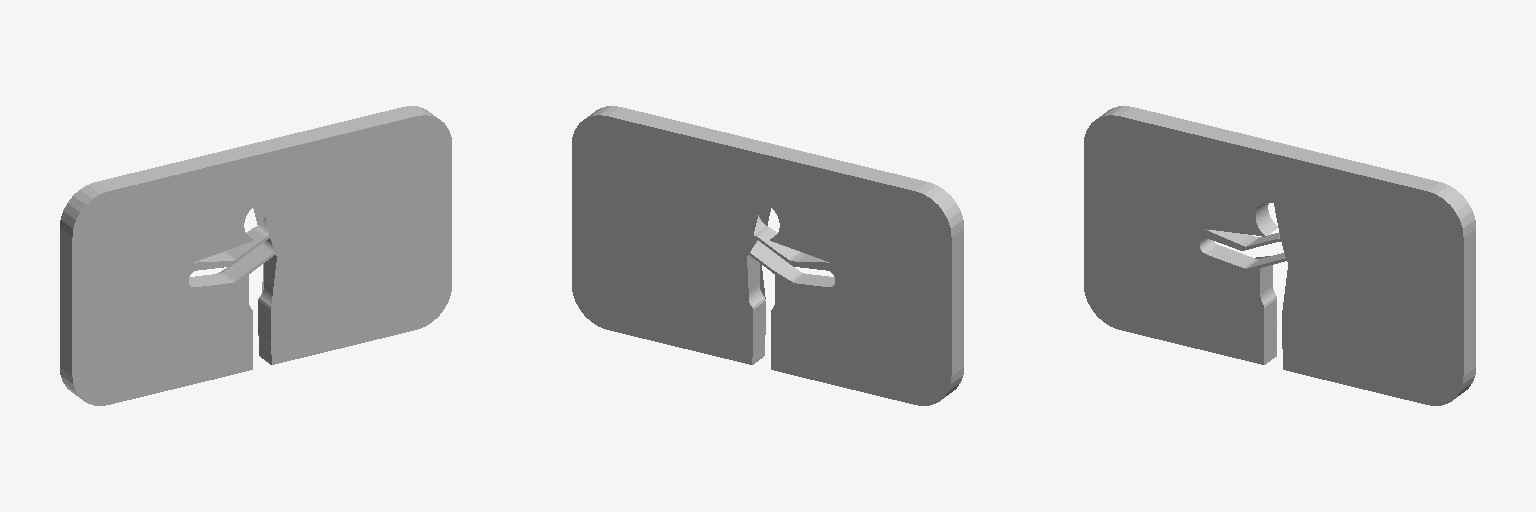
The picture shows the model from 3 angles: view 1: azimuth 30°, elevation 25°; view 2: azimuth 150°, elevation 25°; view 3: azimuth 330°, elevation 25°; orthographic projection.
Visible parts, largest first — view 1: wall_37; view 2: wall_37; view 3: wall_37.
Part boxes in pixels (left/top/right/bottom): wall_37: left=60, top=106, right=451, bottom=405; wall_37: left=572, top=106, right=963, bottom=405; wall_37: left=1084, top=106, right=1475, bottom=405.
Size of the model in its own units: 12 by 6.45 by 0.7.